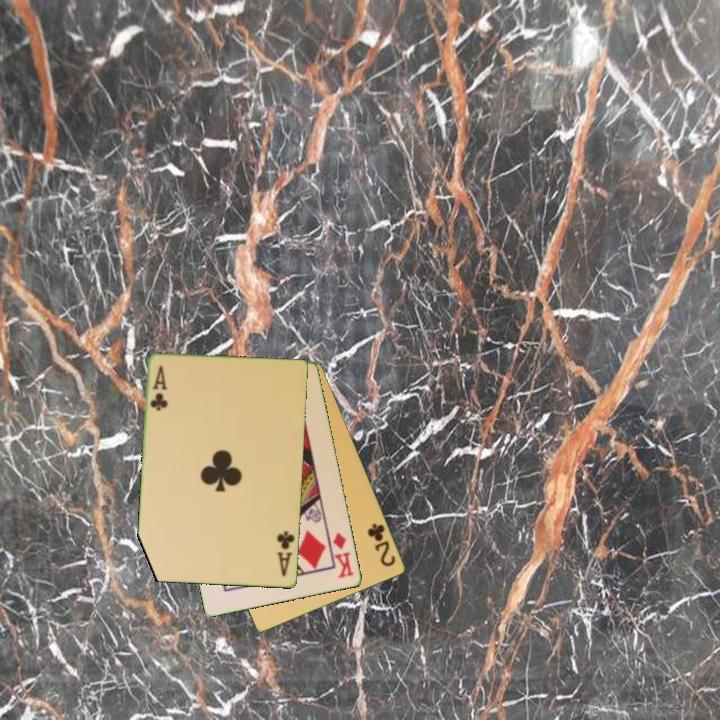2c: (364, 520, 399, 570)
Ac: (274, 528, 298, 579), (147, 363, 171, 414)
Kd: (330, 529, 357, 581)
